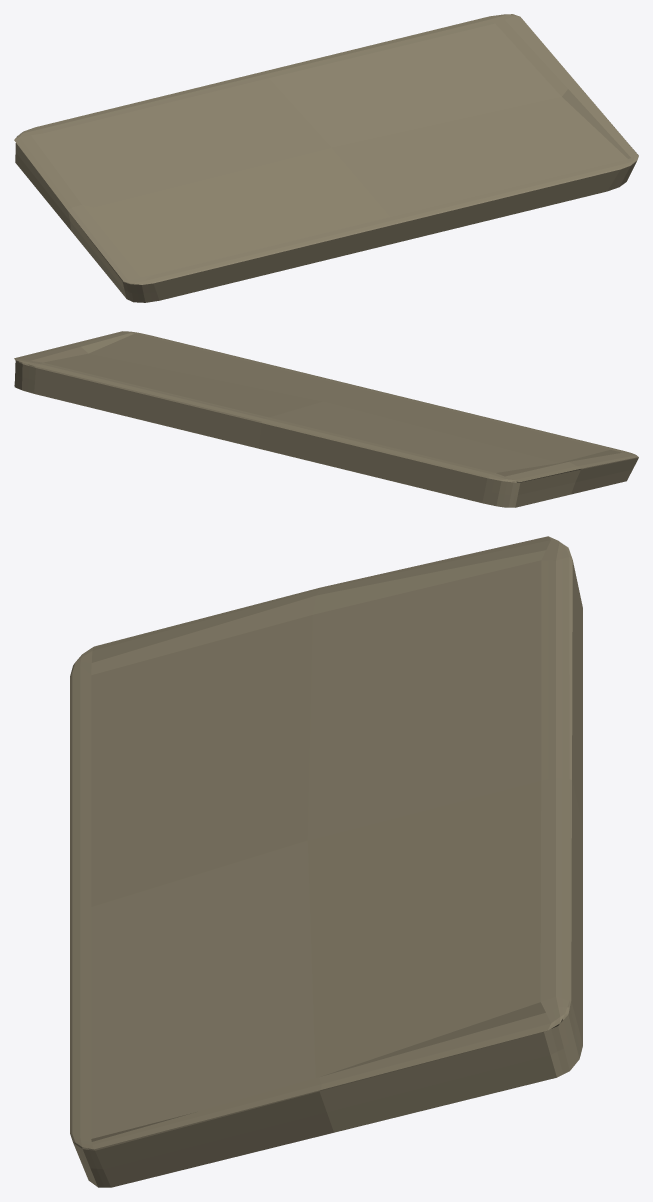
The model's file is Bed.fbx.
3 renders of one model, top to bottom at view 1: azimuth 30°, elevation 25°; view 2: azimuth 150°, elevation 25°; view 3: azimuth 270°, elevation 25°, orthographic. The views are drawn at different scales.
Visible parts, largest first — view 1: Cube; view 2: Cube; view 3: Cube.
Part boxes in pixels (bbox=[...]): Cube: bbox=[14, 14, 638, 302]; Cube: bbox=[14, 331, 638, 507]; Cube: bbox=[70, 536, 582, 1187].
Bounding box in the file's own units: 42.79 × 6.82 × 18.42.
